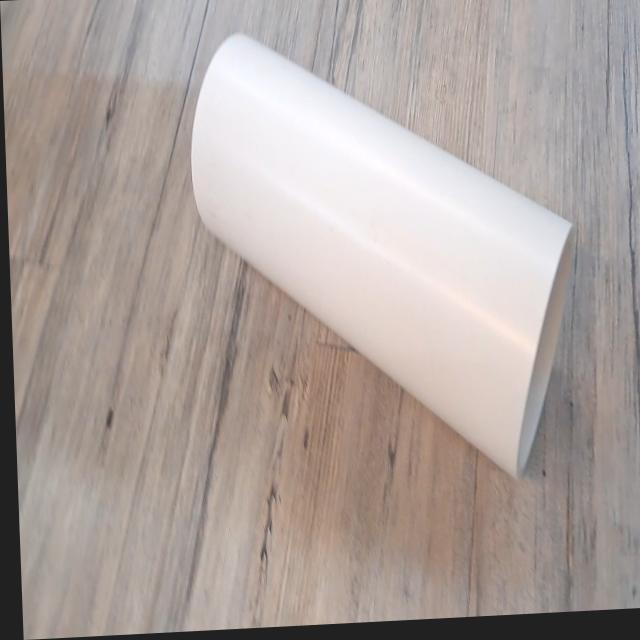CORAL: (180, 3, 585, 518)
